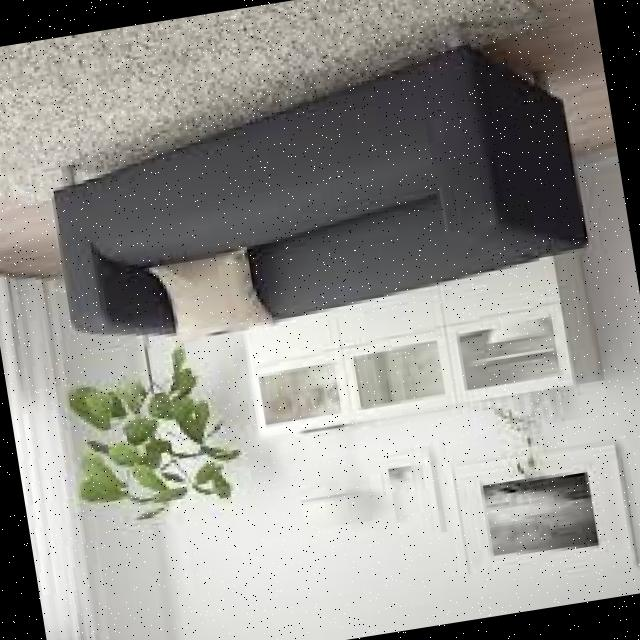Sofa: (10, 20, 622, 410)
